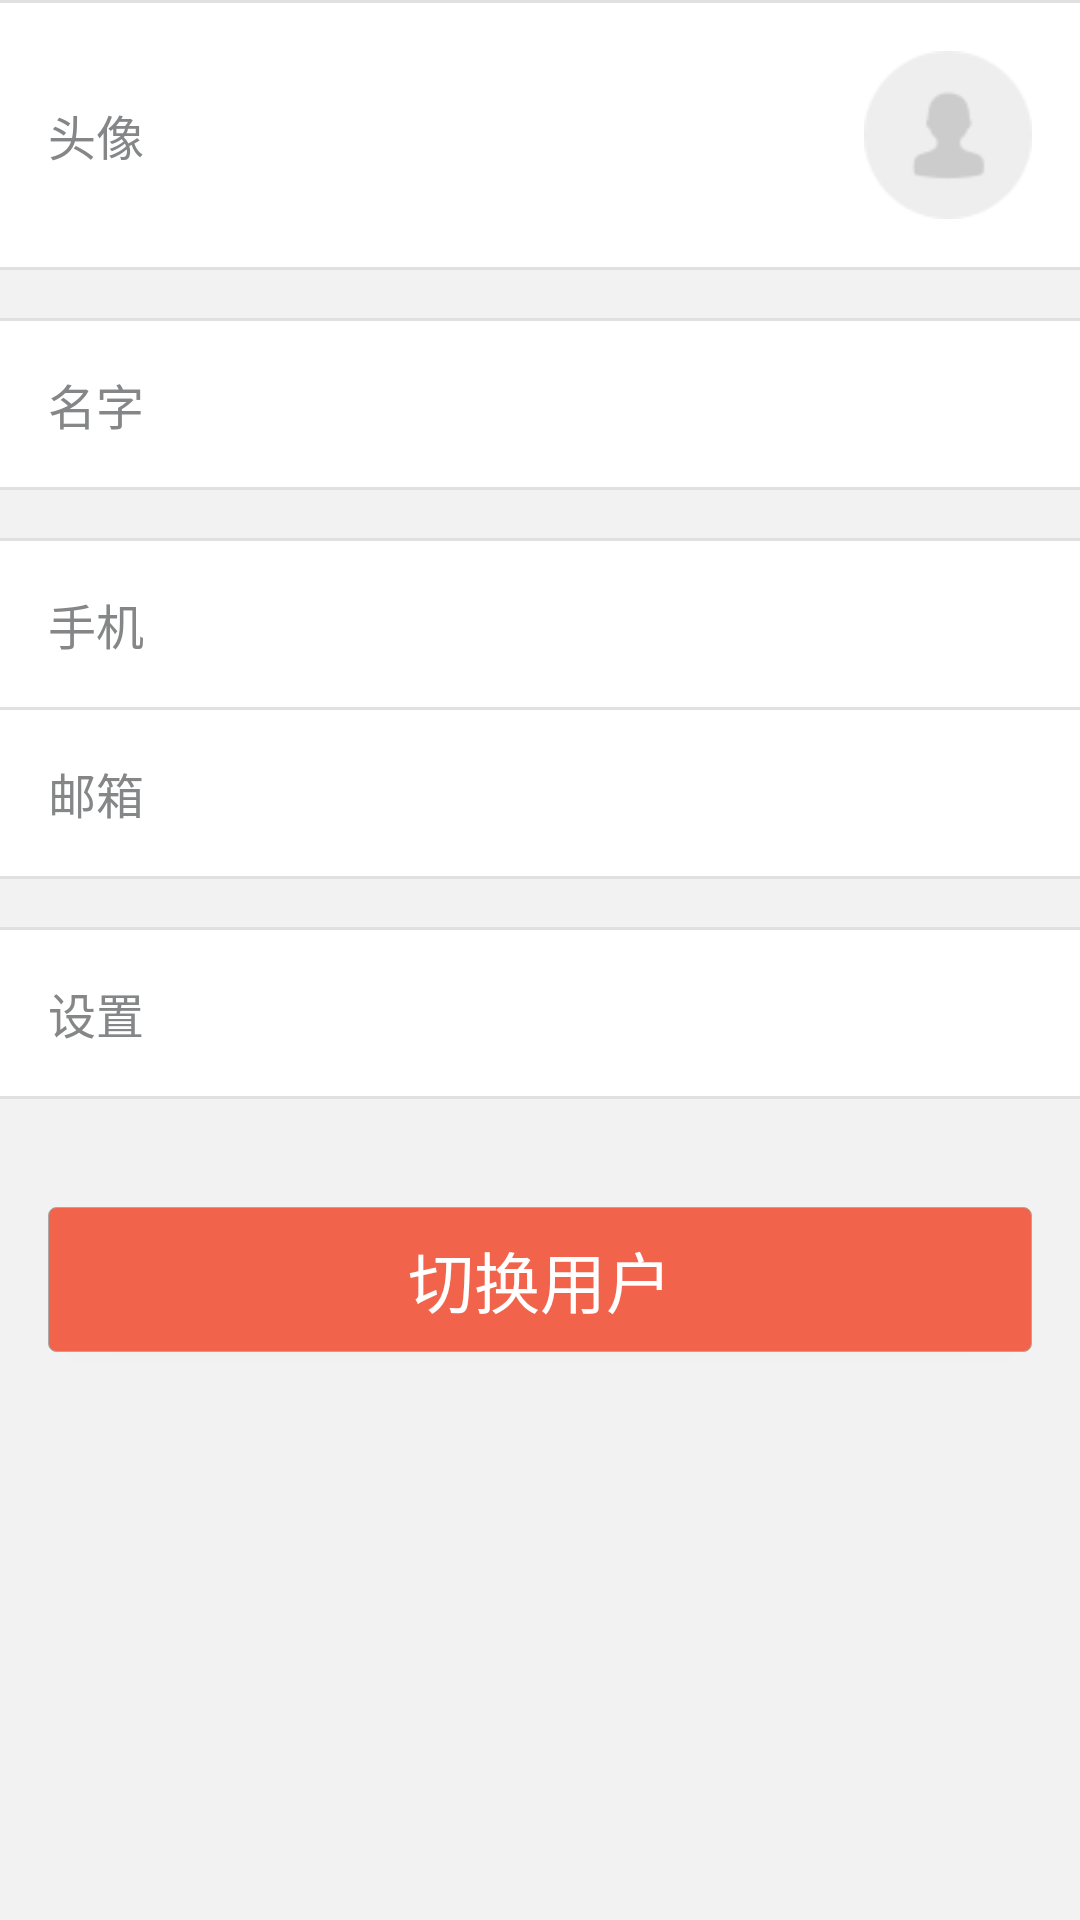

Point at icon controls on the screen. Image size 1080 × 1920, points as [x,y].
head: [949,135]
